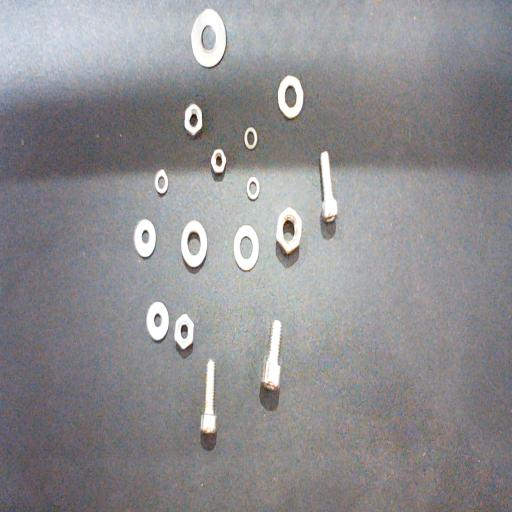nut: (276, 207, 302, 255), (174, 314, 194, 350), (184, 104, 202, 137), (211, 148, 226, 174)
screw: (260, 320, 282, 391), (320, 150, 337, 222), (200, 360, 216, 434)
washer: (191, 8, 226, 69), (181, 220, 207, 268), (234, 224, 258, 272), (278, 75, 304, 119), (146, 301, 169, 341), (134, 219, 156, 257), (154, 168, 168, 195), (246, 176, 259, 200), (244, 127, 257, 150)
